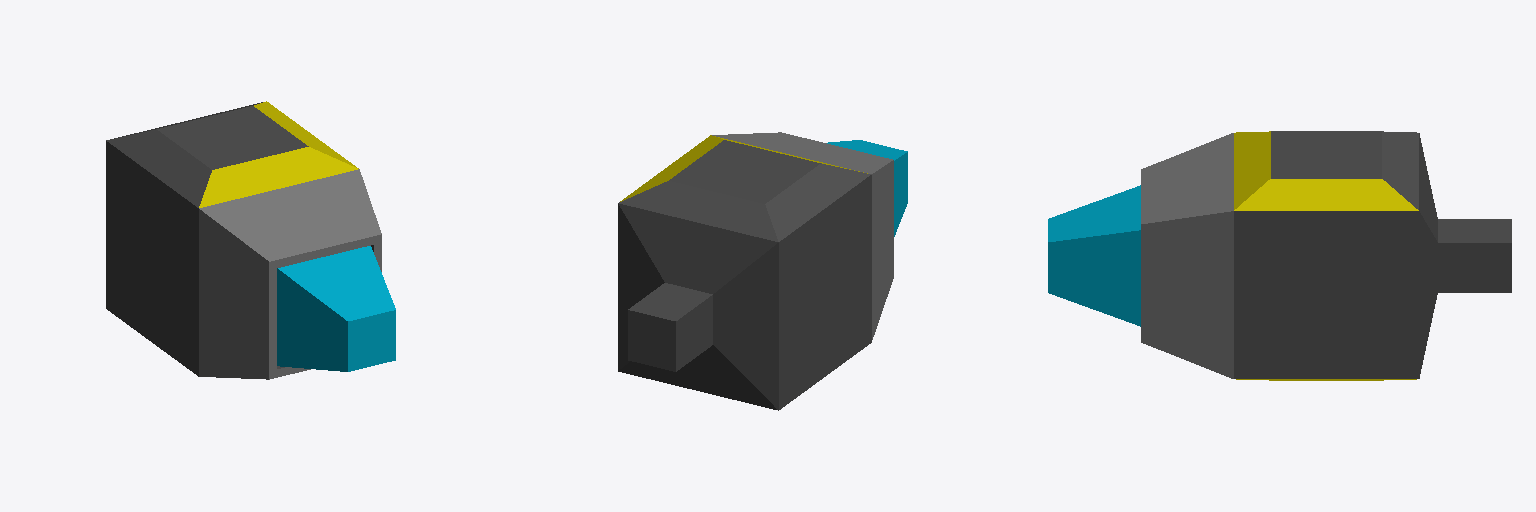
File: engine.obj
3 views of the same model, side by side, from view 1: azimuth 30°, elevation 25°; view 2: azimuth 150°, elevation 25°; view 3: azimuth 270°, elevation 25° (orthographic).
Parts seen in each view (by area): view 1: engine.obj; view 2: engine.obj; view 3: engine.obj.
Part boxes in pixels (left/top/right/bottom): engine.obj: left=106, top=101, right=395, bottom=379; engine.obj: left=618, top=132, right=907, bottom=410; engine.obj: left=1048, top=131, right=1511, bottom=380.
Size of the model in its own units: 1 by 1.2 by 2.5.